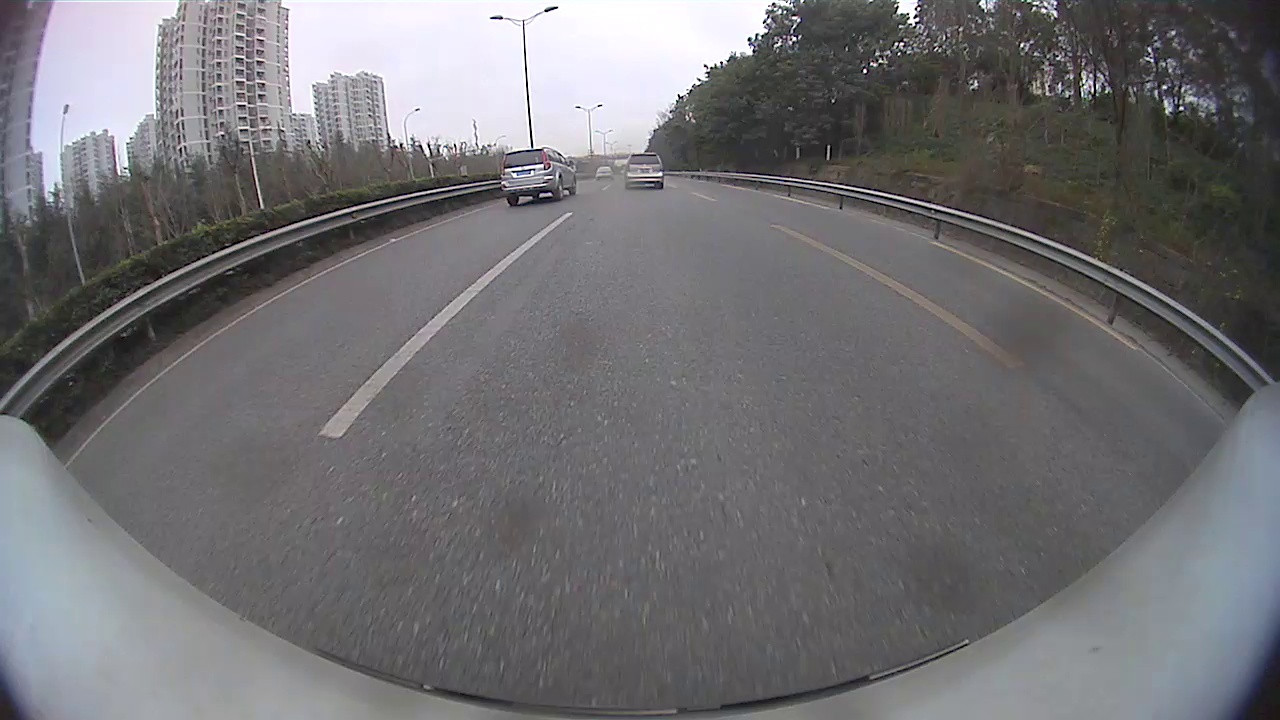car: (498, 145, 578, 206), (623, 150, 665, 190), (595, 164, 612, 181)
